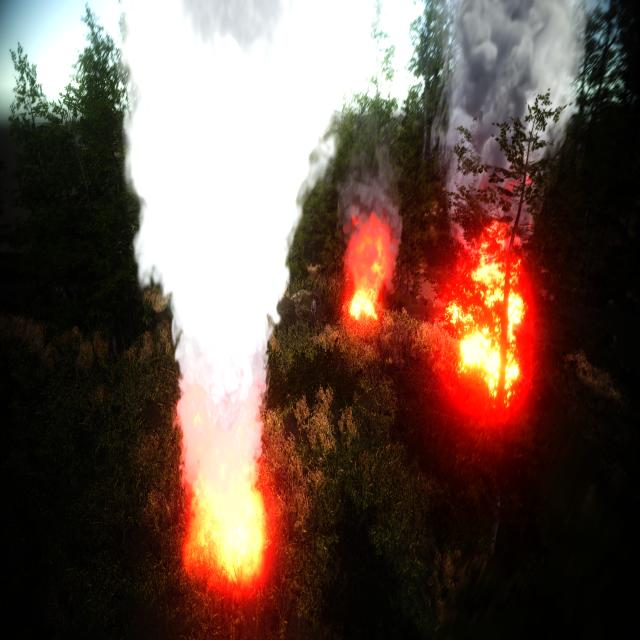Human: (308, 290, 318, 332)
